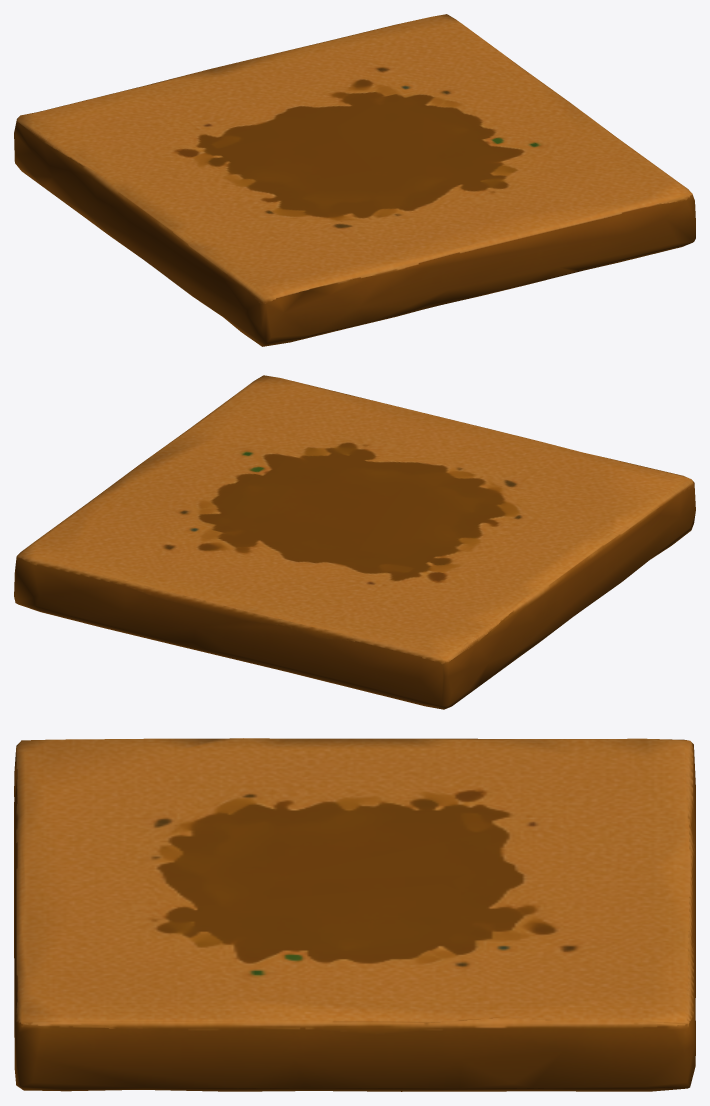
File: damp-carpet.glb
3 views of the same model, one above another, from view 1: azimuth 30°, elevation 25°; view 2: azimuth 150°, elevation 25°; view 3: azimuth 270°, elevation 25° (orthographic). The views are drawn at different scales.
Parts seen in each view (by area): view 1: geometry_0.001; view 2: geometry_0.001; view 3: geometry_0.001.
Part boxes in pixels (box(x1,y1,x2,y2)): geometry_0.001: box(14, 14, 695, 346); geometry_0.001: box(14, 375, 695, 709); geometry_0.001: box(14, 738, 695, 1091).
Bounding box in the file's own units: 0.9998 × 0.1194 × 0.9999.
1 material, 1 textured.
